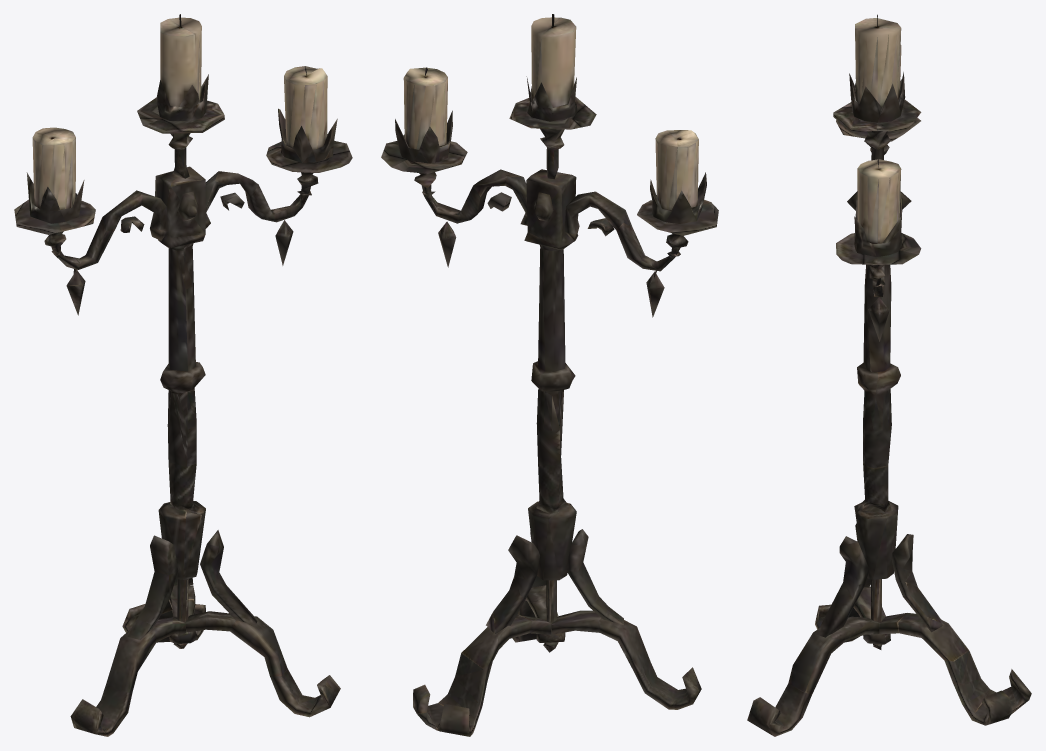
The model's file is d_candle_triple.glb.
3 views of the same model, side by side, from view 1: azimuth 30°, elevation 25°; view 2: azimuth 150°, elevation 25°; view 3: azimuth 270°, elevation 25° (orthographic).
Visible parts, largest first — view 1: d_candle_triple; view 2: d_candle_triple; view 3: d_candle_triple.
Boxes of the visible parts, bbox=[...] form: d_candle_triple: bbox=[14, 14, 352, 736]; d_candle_triple: bbox=[381, 14, 718, 736]; d_candle_triple: bbox=[747, 14, 1031, 736].
Bounding box in the file's own units: 0.4447 × 0.873 × 0.3328.
Materials: 1 (1 with a texture image).
